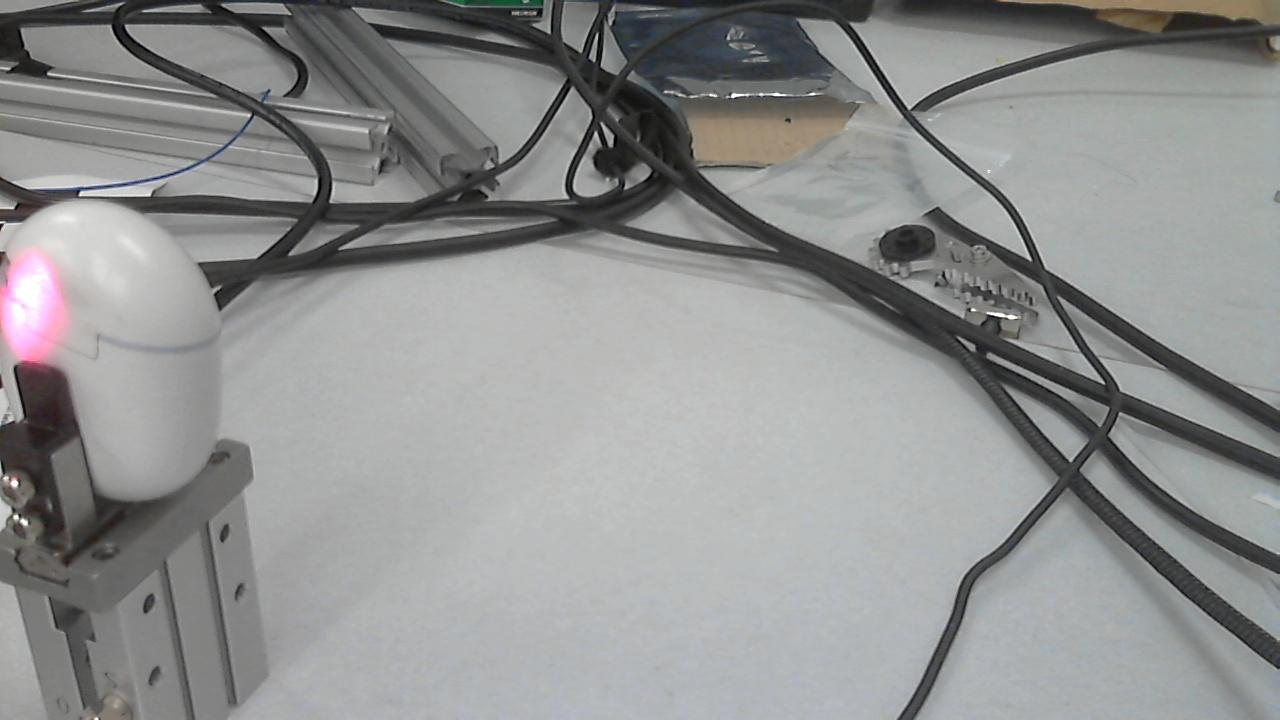Object wireless earbud charging case - Material plastic - Pdfname qzJIPQkli2jB: (0, 222, 78, 372)
